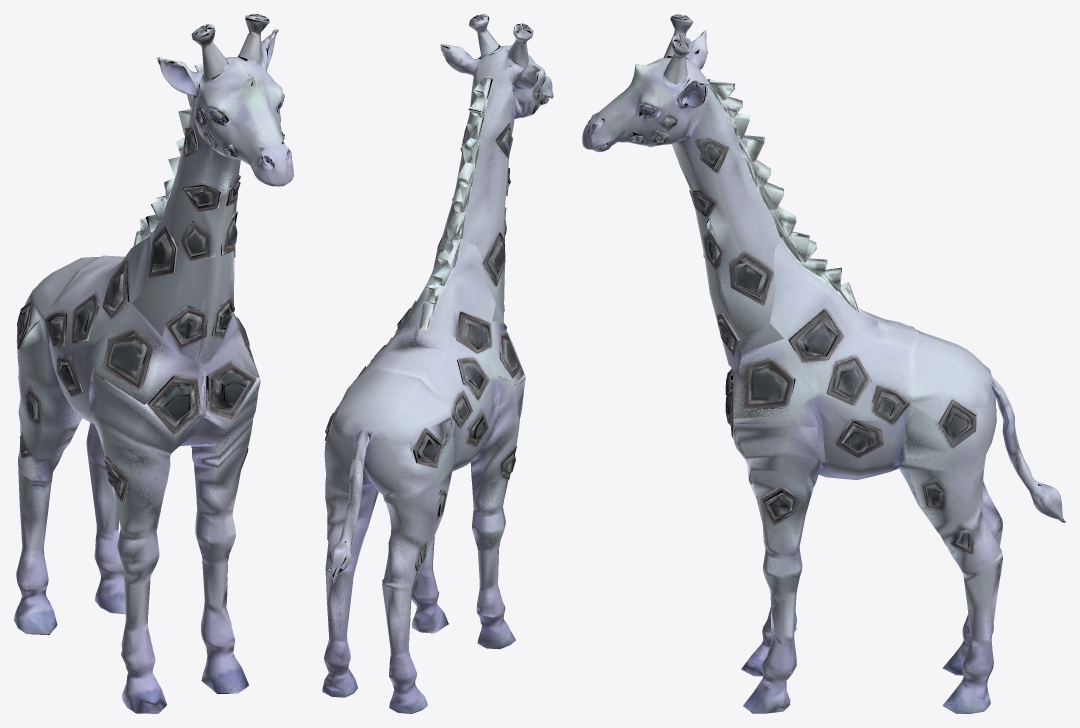
Rendered from creature_giraffe_diamond.fbx.
The picture shows the model from 3 angles, left to right: view 1: azimuth 30°, elevation 25°; view 2: azimuth 150°, elevation 25°; view 3: azimuth 270°, elevation 25°; orthographic projection. The views are drawn at different scales.
Visible parts, largest first — view 1: creature_giraffe_diamond_head, creature_giraffe_diamond_body, creature_giraffe_diamond_leg_fr, creature_giraffe_diamond_leg_br, creature_giraffe_diamond_leg_fl, creature_giraffe_diamond_leg_bl; view 2: creature_giraffe_diamond_body, creature_giraffe_diamond_head, creature_giraffe_diamond_leg_br, creature_giraffe_diamond_leg_fr, creature_giraffe_diamond_leg_bl, creature_giraffe_diamond_leg_fl, creature_giraffe_diamond_tail; view 3: creature_giraffe_diamond_body, creature_giraffe_diamond_head, creature_giraffe_diamond_leg_bl, creature_giraffe_diamond_leg_fl, creature_giraffe_diamond_leg_br, creature_giraffe_diamond_tail, creature_giraffe_diamond_leg_fr.
Boxes of the visible parts, x1,y1,x2,y2 form: creature_giraffe_diamond_head: [132, 14, 293, 360]; creature_giraffe_diamond_body: [20, 156, 259, 409]; creature_giraffe_diamond_leg_fr: [89, 375, 205, 713]; creature_giraffe_diamond_leg_br: [14, 309, 93, 634]; creature_giraffe_diamond_leg_fl: [179, 370, 260, 693]; creature_giraffe_diamond_leg_bl: [86, 422, 125, 614]; creature_giraffe_diamond_body: [327, 186, 525, 450]; creature_giraffe_diamond_head: [433, 14, 553, 322]; creature_giraffe_diamond_leg_br: [332, 395, 492, 713]; creature_giraffe_diamond_leg_fr: [470, 374, 525, 649]; creature_giraffe_diamond_leg_bl: [322, 419, 378, 697]; creature_giraffe_diamond_leg_fl: [411, 536, 448, 633]; creature_giraffe_diamond_tail: [333, 459, 363, 552]; creature_giraffe_diamond_body: [712, 186, 1002, 427]; creature_giraffe_diamond_head: [582, 14, 783, 359]; creature_giraffe_diamond_leg_bl: [820, 387, 1064, 713]; creature_giraffe_diamond_leg_fl: [725, 379, 828, 713]; creature_giraffe_diamond_leg_br: [942, 408, 1065, 675]; creature_giraffe_diamond_tail: [1005, 403, 1057, 494]; creature_giraffe_diamond_leg_fr: [725, 378, 796, 676].
Size of the model in its own units: 547 by 2439 by 1614.
1 material, 1 textured.
